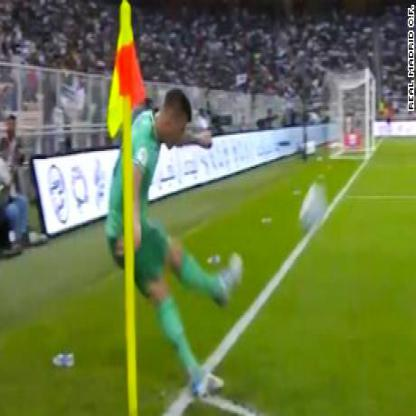corner kick: (86, 5, 287, 416)
